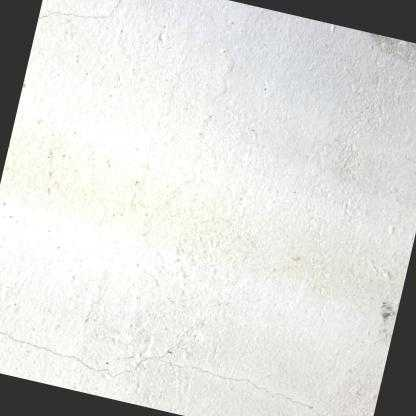crack: (0, 328, 327, 416), (37, 0, 129, 23)
